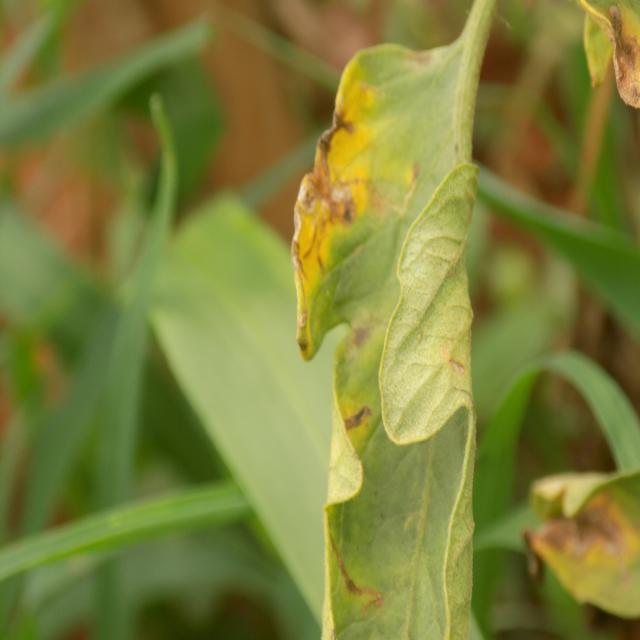tomato_early blight: (289, 30, 480, 640)
